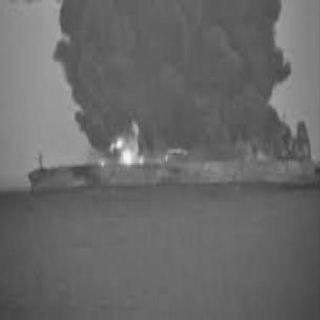Fire: (242, 133, 274, 167)
Smoke: (57, 2, 297, 134)
